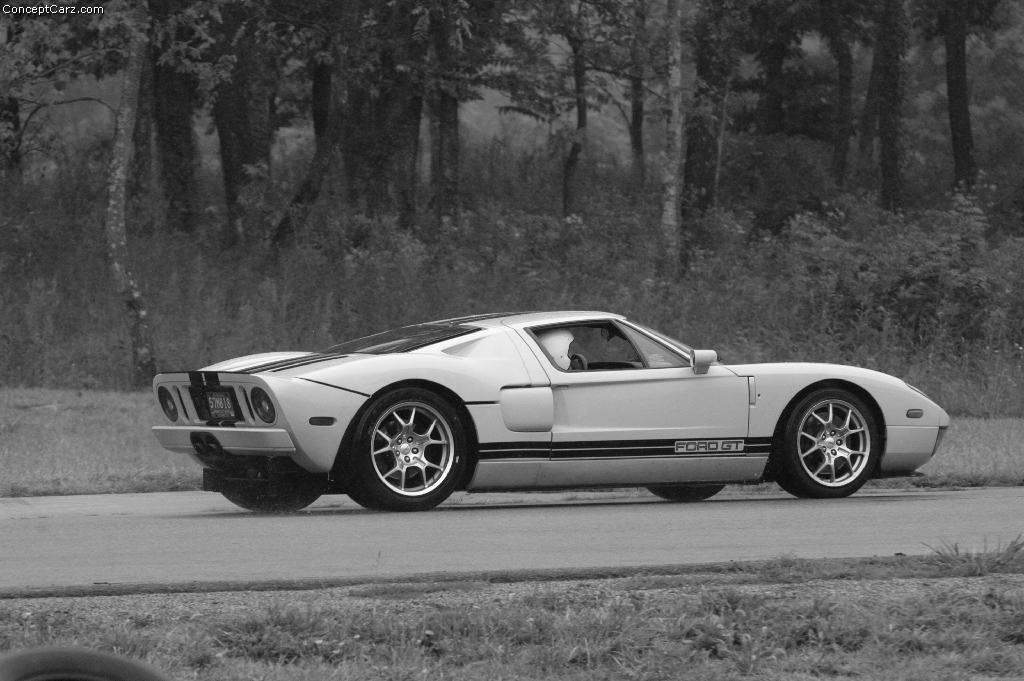car: (154, 313, 949, 513)
